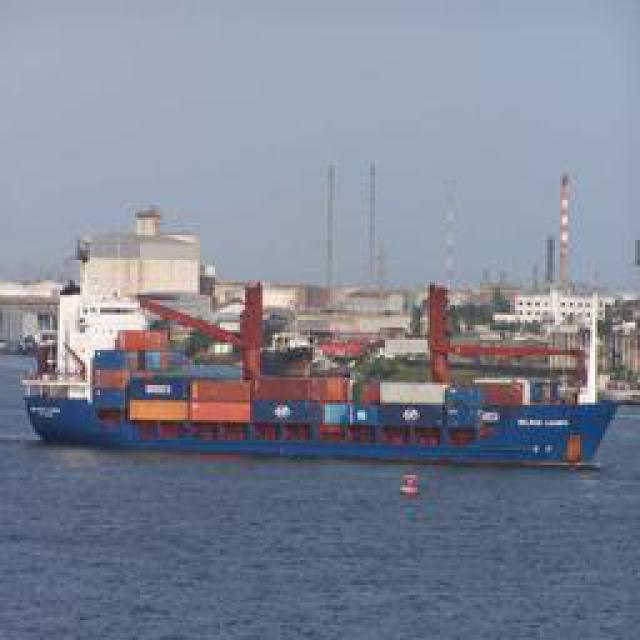Ship: (19, 316, 624, 471)
